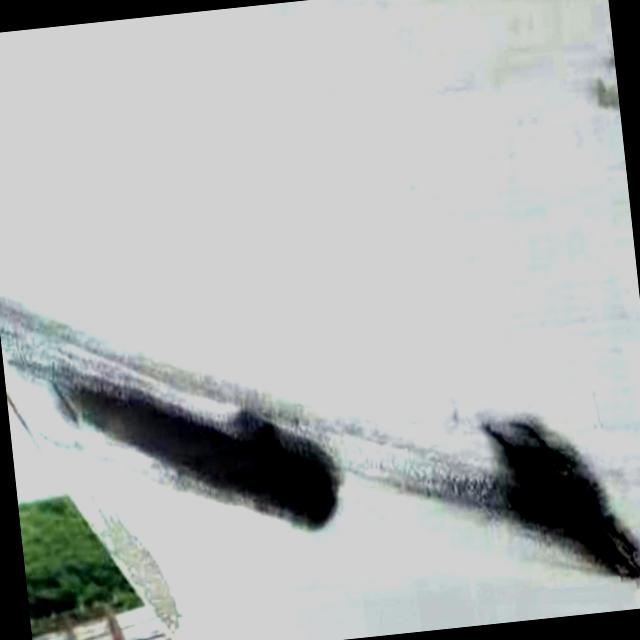crack: (41, 347, 351, 559), (471, 403, 640, 596)
